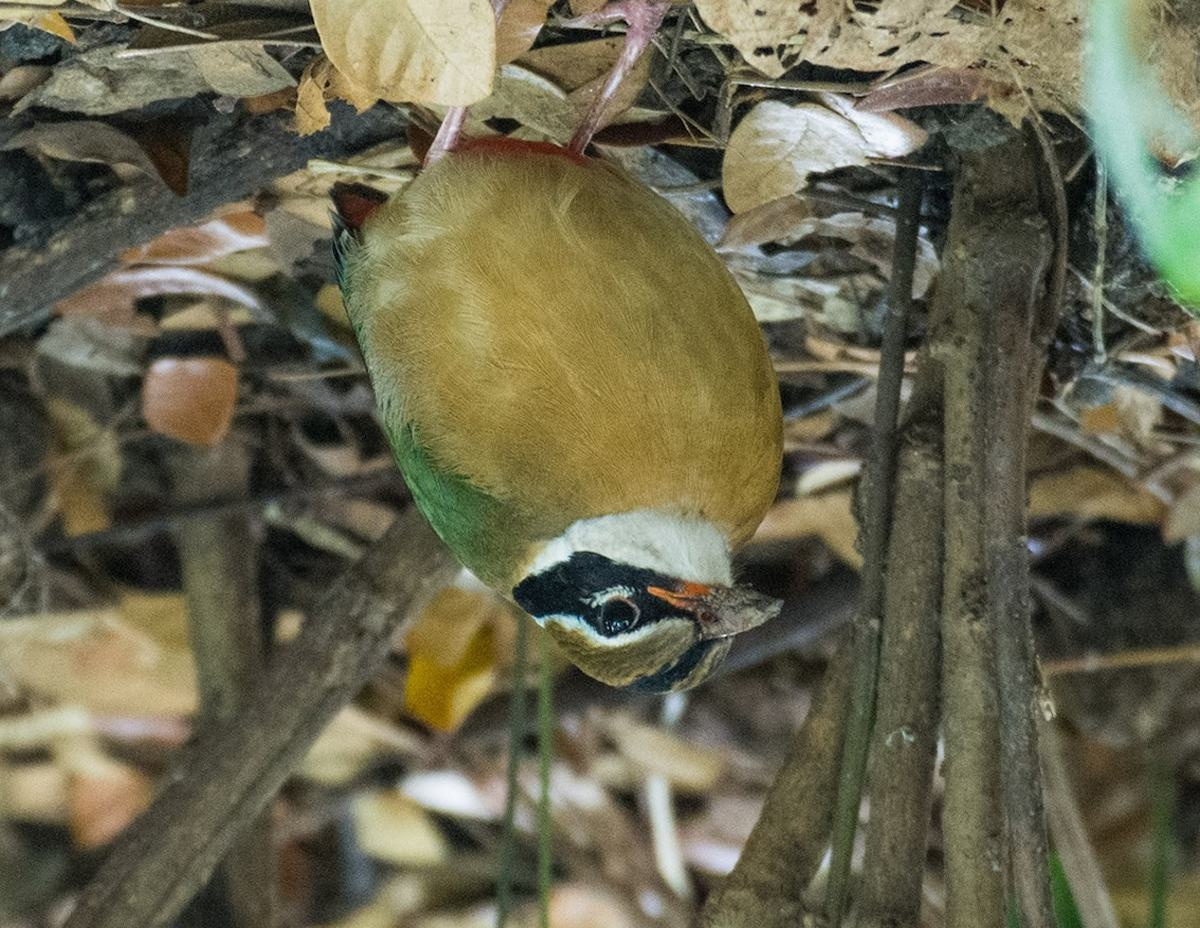pitta: (249, 9, 804, 684)
